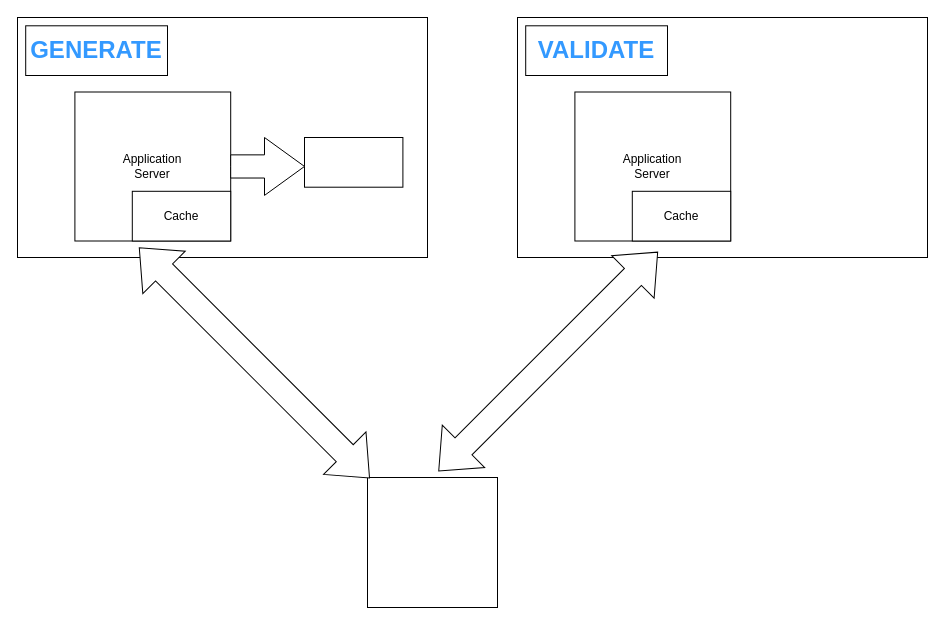
Some shapes in this 945 by 625 pixel diagram are drawn without their labels. The shapes that lost their labels are listed below. From the top down, each one's box as (x1, y1, x2, y2) in pixels, then its label:
(304, 136, 403, 187): HSM
(366, 476, 498, 608): Database
